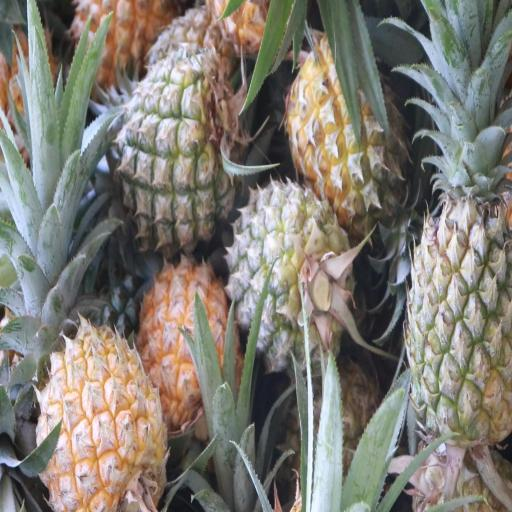------------------------------: (289, 41, 410, 229), (119, 70, 244, 246), (230, 182, 351, 361)
Pineapple - v8 v1: (33, 328, 167, 509), (139, 256, 236, 418), (75, 0, 170, 101)
